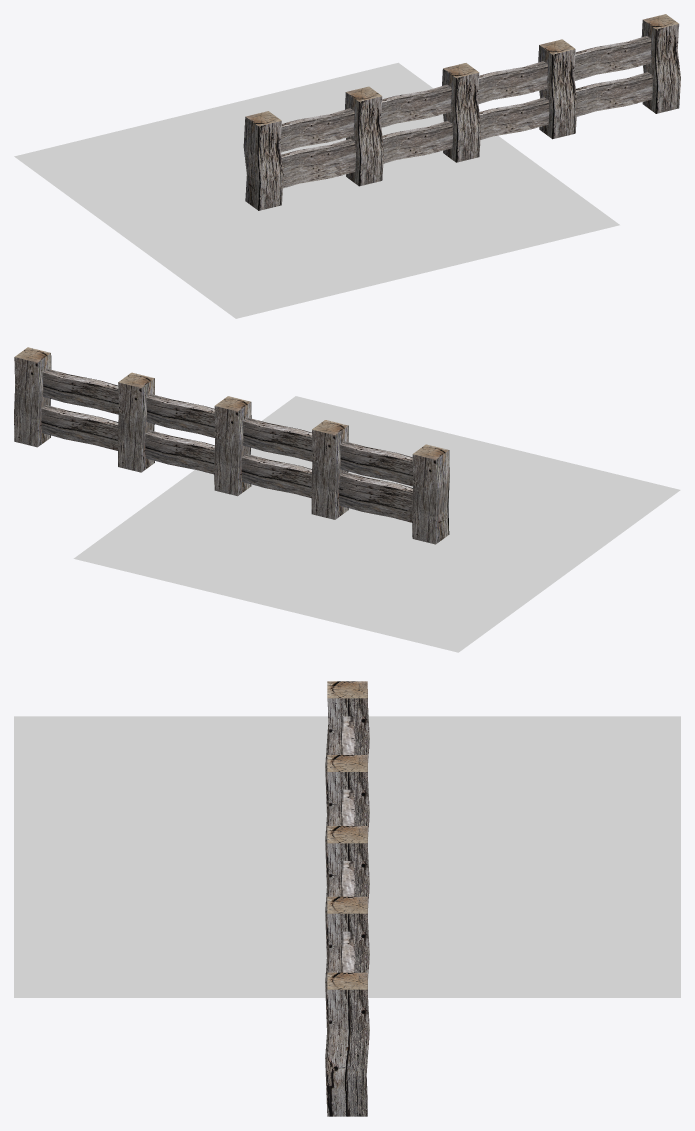
The model's file is fence5x1.fbx.
3 renders of one model, top to bottom at view 1: azimuth 30°, elevation 25°; view 2: azimuth 150°, elevation 25°; view 3: azimuth 270°, elevation 25°, orthographic. The views are drawn at different scales.
Parts seen in each view (by area): view 1: Plane, Cube.008, Cube.014, Cube.013, Cube.017, Cube.001, Cube.016, Cube.015, Cube.004, Cube.003, Cube.012, Cube.011 (+3 smaller); view 2: Plane, Cube.008, Cube.017, Cube.013, Cube.014, Cube.001, Cube.015, Cube.016, Cube.004, Cube.011, Cube.009, Cube.012 (+3 smaller); view 3: Plane, Cube.017, Cube.014, Cube.008, Cube.001, Cube.013.
Part boxes in pixels (bbox=[...]): Plane: bbox=[14, 62, 619, 318]; Cube.008: bbox=[243, 111, 283, 210]; Cube.014: bbox=[538, 39, 577, 139]; Cube.013: bbox=[442, 63, 480, 162]; Cube.017: bbox=[641, 14, 680, 113]; Cube.001: bbox=[345, 86, 383, 186]; Cube.016: bbox=[574, 36, 651, 80]; Cube.015: bbox=[576, 72, 652, 116]; Cube.004: bbox=[280, 108, 354, 152]; Cube.003: bbox=[281, 139, 355, 182]; Cube.012: bbox=[381, 84, 451, 127]; Cube.011: bbox=[382, 121, 453, 163]; Plane: bbox=[73, 396, 680, 652]; Cube.008: bbox=[412, 444, 449, 544]; Cube.017: bbox=[14, 347, 51, 447]; Cube.013: bbox=[214, 396, 251, 496]; Cube.014: bbox=[117, 372, 154, 472]; Cube.001: bbox=[311, 420, 348, 519]; Cube.015: bbox=[41, 405, 118, 450]; Cube.016: bbox=[42, 368, 118, 414]; Cube.004: bbox=[340, 441, 413, 486]; Cube.011: bbox=[241, 454, 311, 498]; Cube.009: bbox=[145, 430, 214, 474]; Cube.012: bbox=[242, 417, 312, 461]; Plane: bbox=[14, 716, 680, 997]; Cube.017: bbox=[325, 972, 369, 1116]; Cube.014: bbox=[325, 896, 369, 1029]; Cube.008: bbox=[325, 681, 369, 812]; Cube.001: bbox=[325, 755, 369, 885]; Cube.013: bbox=[325, 826, 369, 956].
Bounding box in the file's own units: 1359 × 202 × 952.
